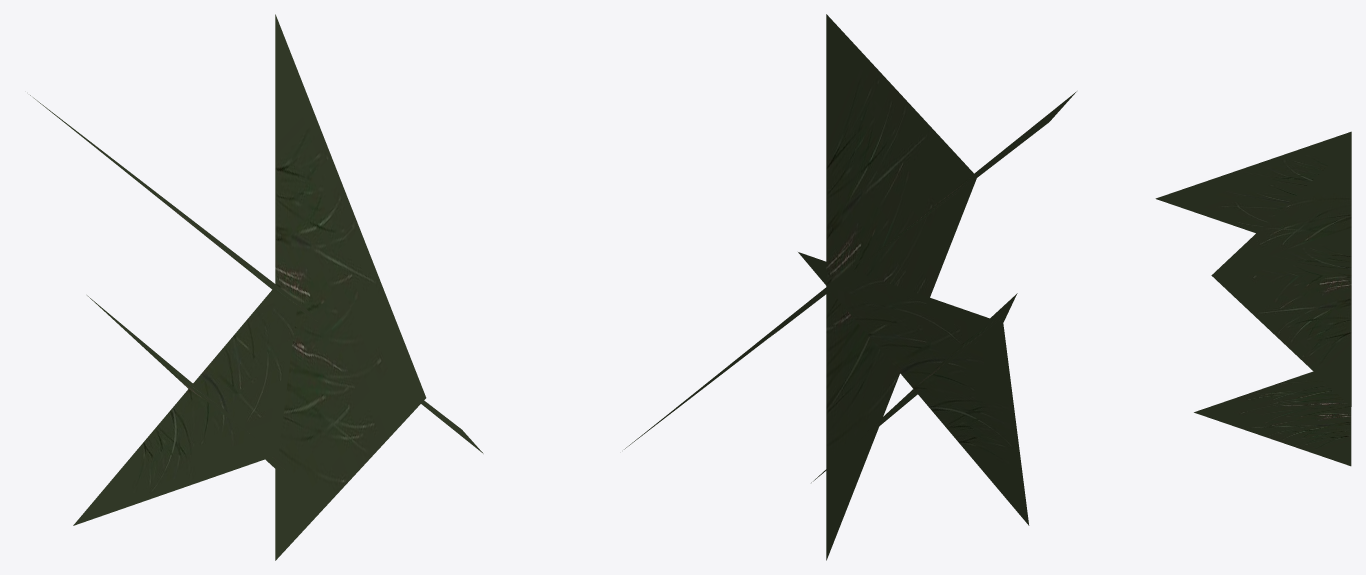
The model's file is brush_newgrass_squareclump.glb.
The picture shows the model from 3 angles, left to right: view 1: azimuth 30°, elevation 25°; view 2: azimuth 150°, elevation 25°; view 3: azimuth 270°, elevation 25°; orthographic projection. The views are drawn at different scales.
Bounding box in the file's own units: 83.88 × 83.88 × 41.94.
1 material, 1 textured.
